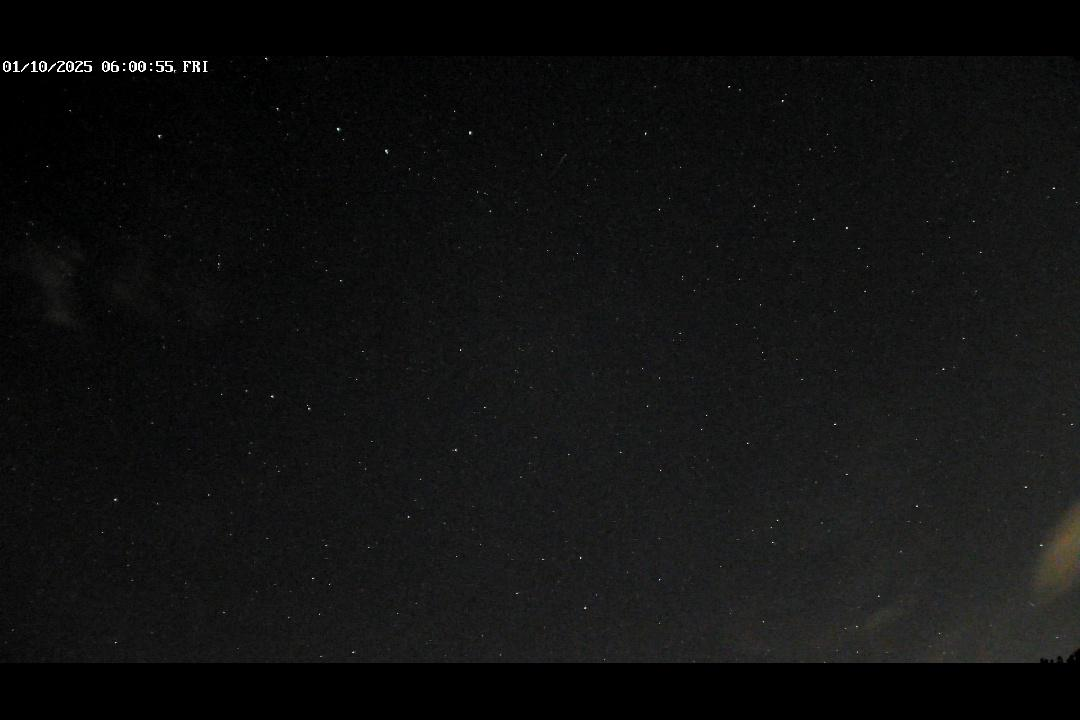Plane: (544, 150, 570, 182)
